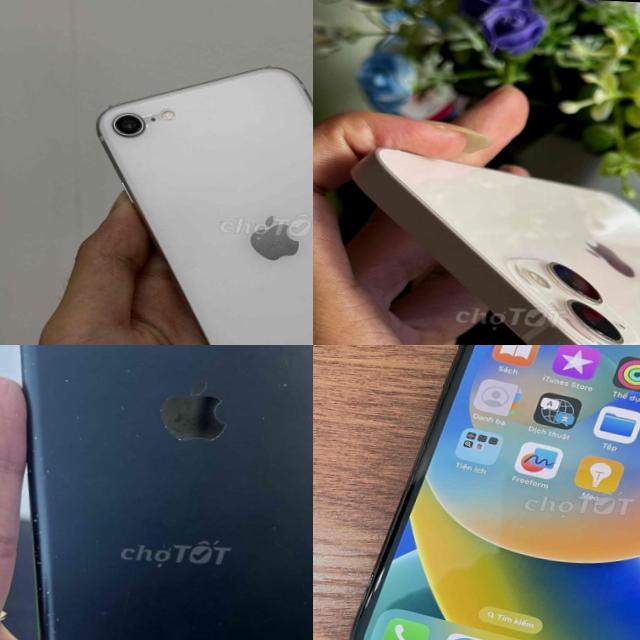gen_12_13: (337, 138, 640, 345)
gen_7_8: (0, 345, 313, 640), (75, 49, 313, 345)
gen_x_xs: (353, 345, 640, 640)
